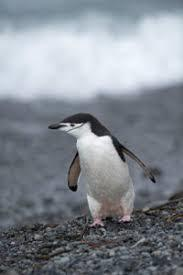chinstrap: (37, 97, 154, 242)
